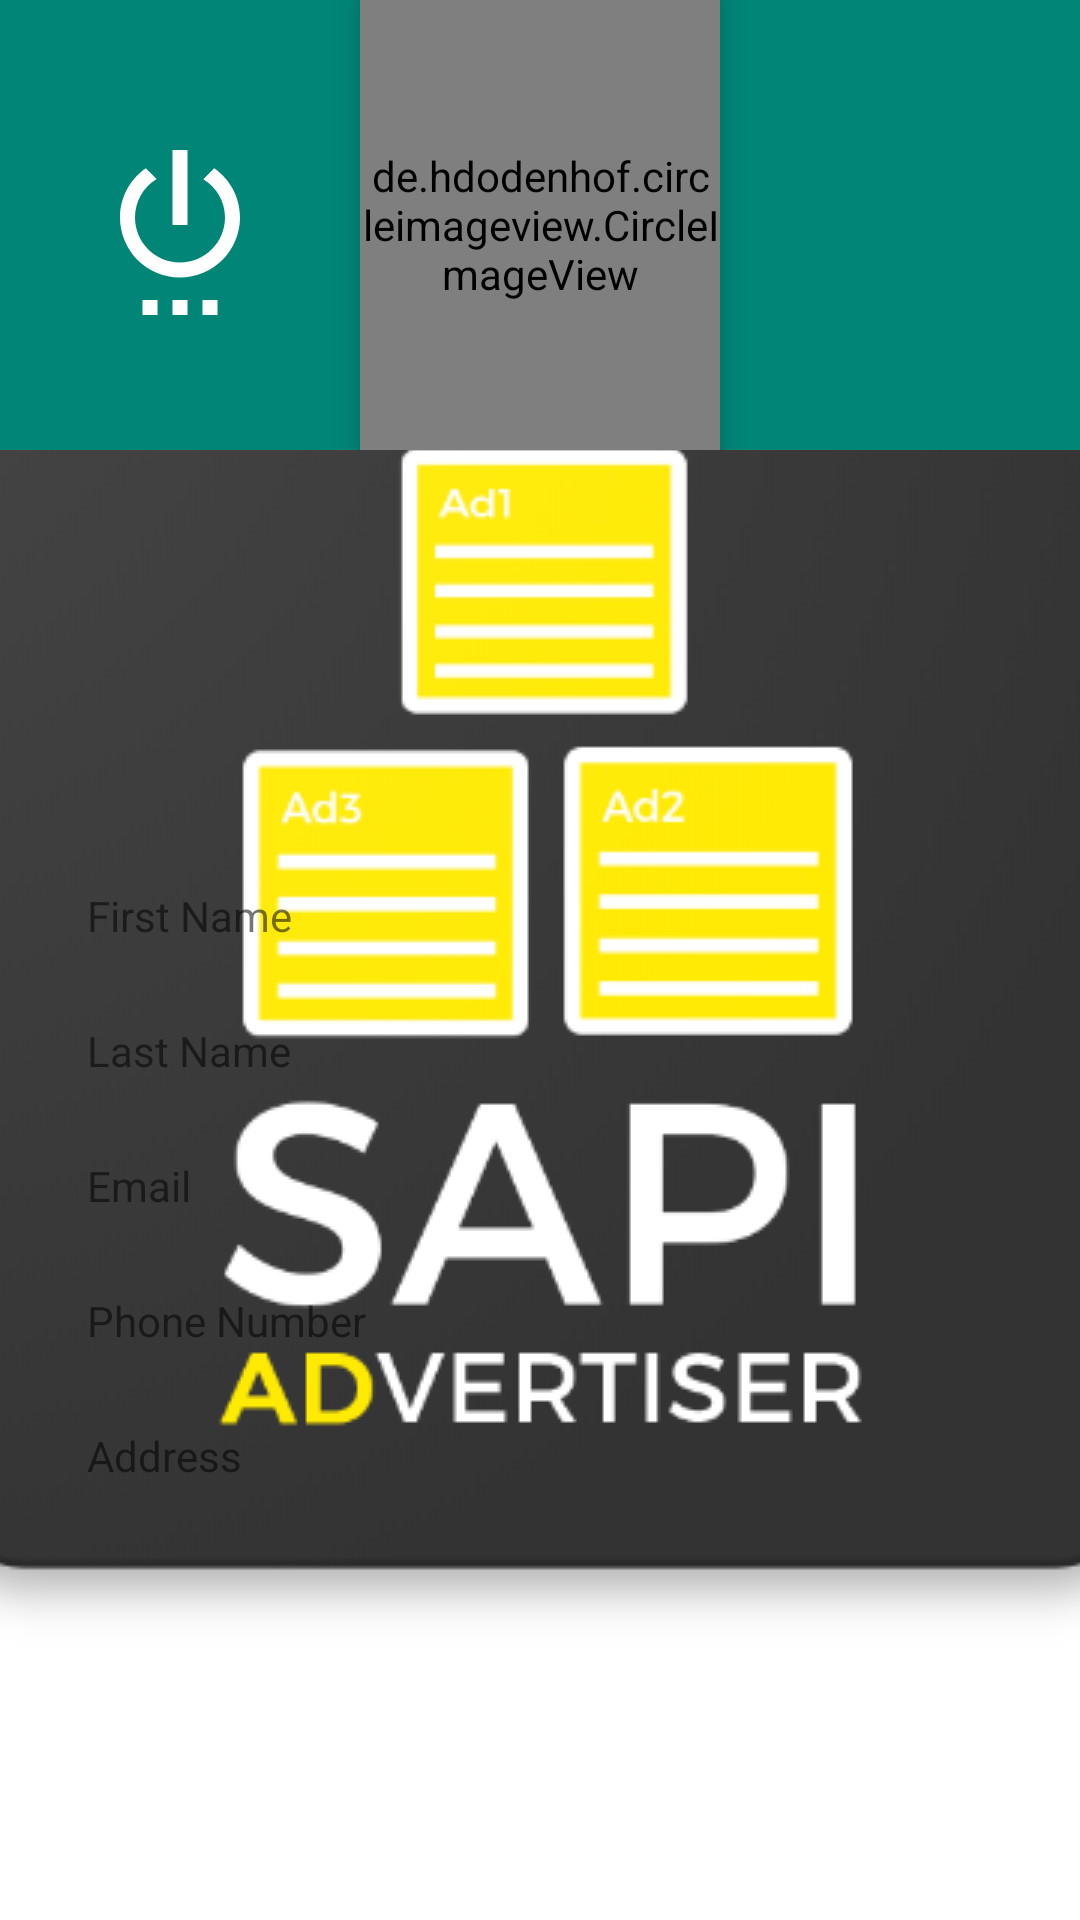

Icon bounding boxes for this 1080px×1920px phone screenshot, format (x1, y1, x2, y2):
signout: (120, 150, 240, 315)
